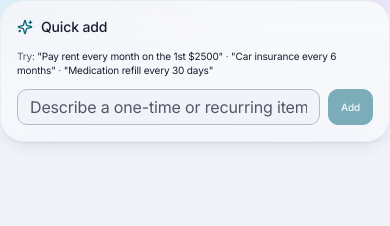
Calendar Quick Add commit behavior › clears and navigates only after creation succeeds
Later steps or results of the test are not shown.
Type "Pay rent every month on the 1st $2500" into the field with test id "quick-add-input". click: (169, 107)
box: [17,89,320,125]
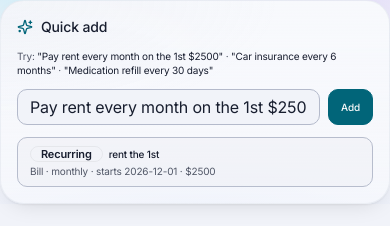
Click the button with test id "quick-add-submit". click: click(351, 107)
box: [328,89,373,125]
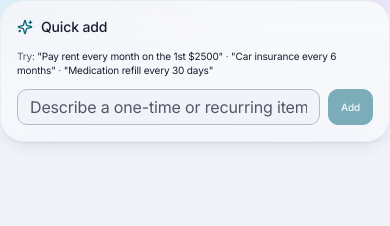
Now the field with test id "quick-add-input" is empty, box [17,89,320,125]
